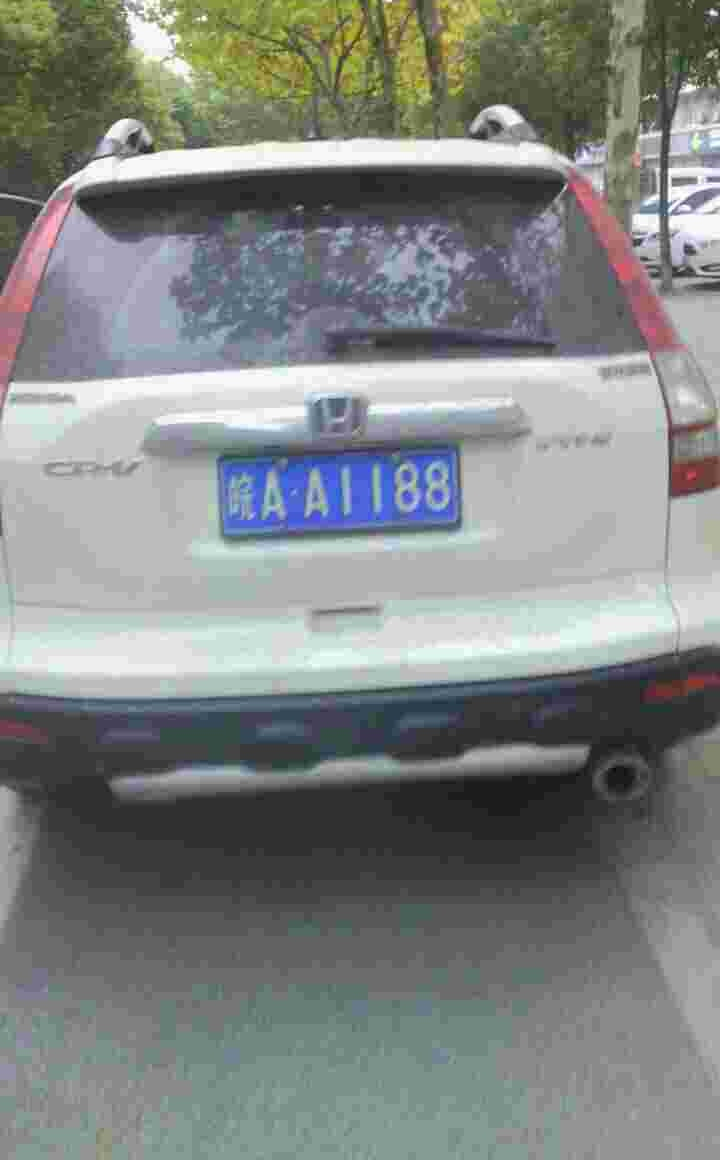license_plate: (223, 452, 453, 534)
